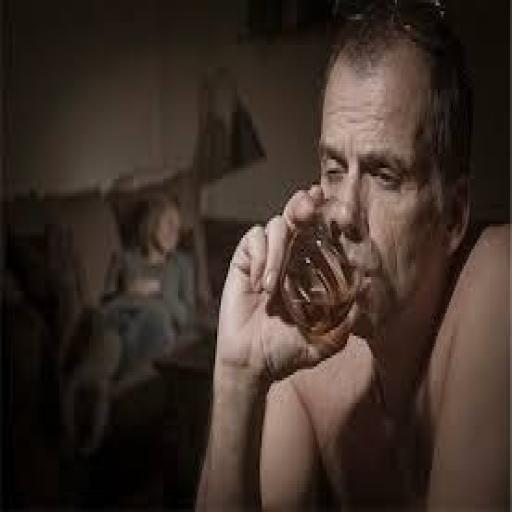drinking: (274, 204, 360, 339)
